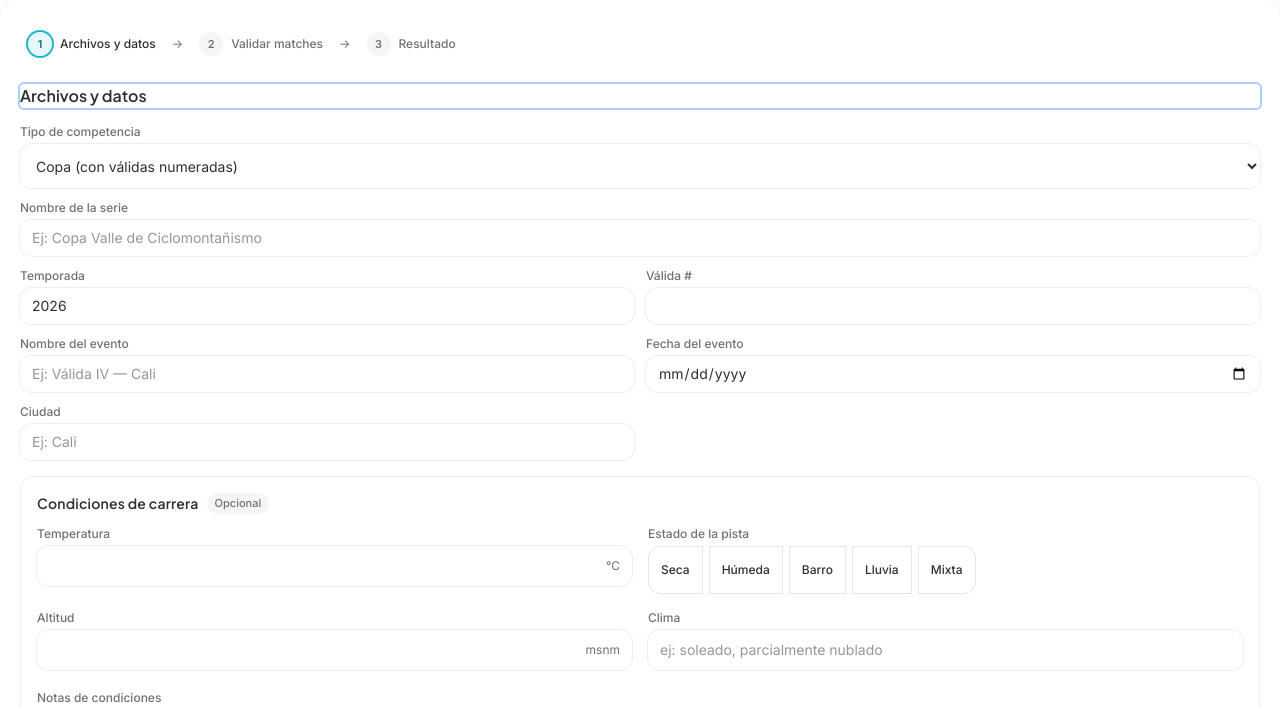
Test: ImportWizard — nivel del campeonato (feature 023) › campeonato: aparece el selector de nivel Departamental|Nacional con default Departamental
Select "Campeonato (evento único anual)" in the dropdown with test id "wizard-series-kind": coordinates (640, 166) [20,144,1260,188]
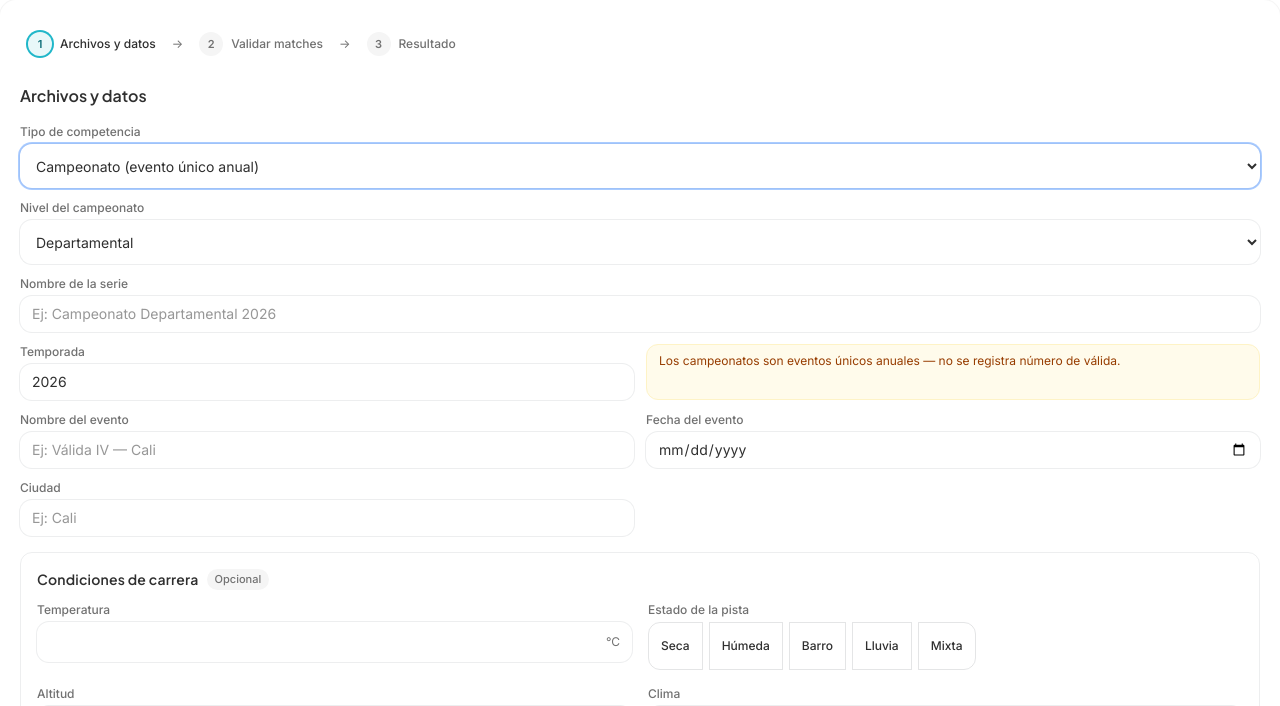
Check: the dropdown with test id "wizard-series-level" shows "Departamental", box [20,220,1260,264]
